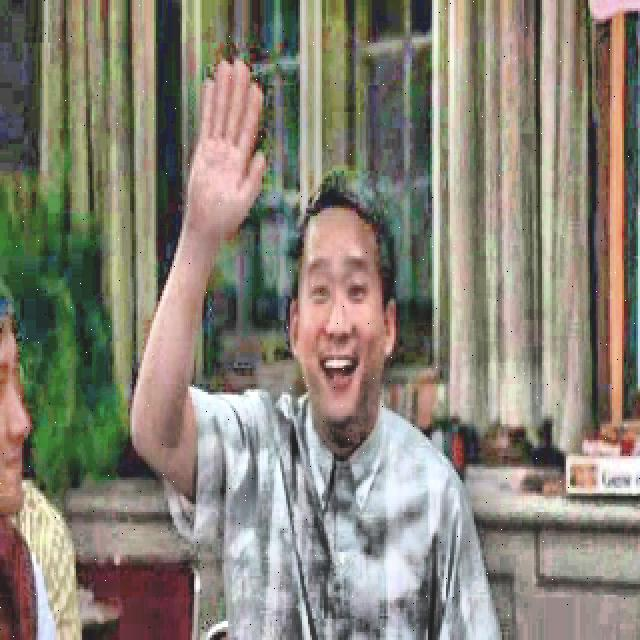T: (118, 42, 505, 640)
